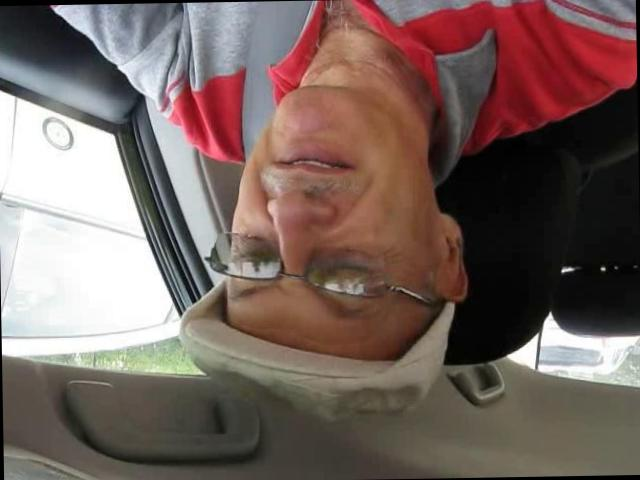eye_closed: (319, 255, 383, 284), (230, 241, 274, 272)
face: (220, 88, 428, 346)
